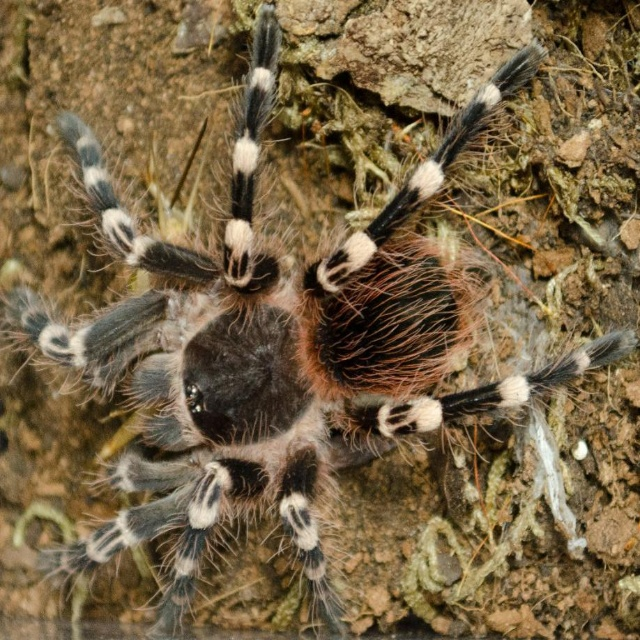Spider: (0, 1, 640, 640)
